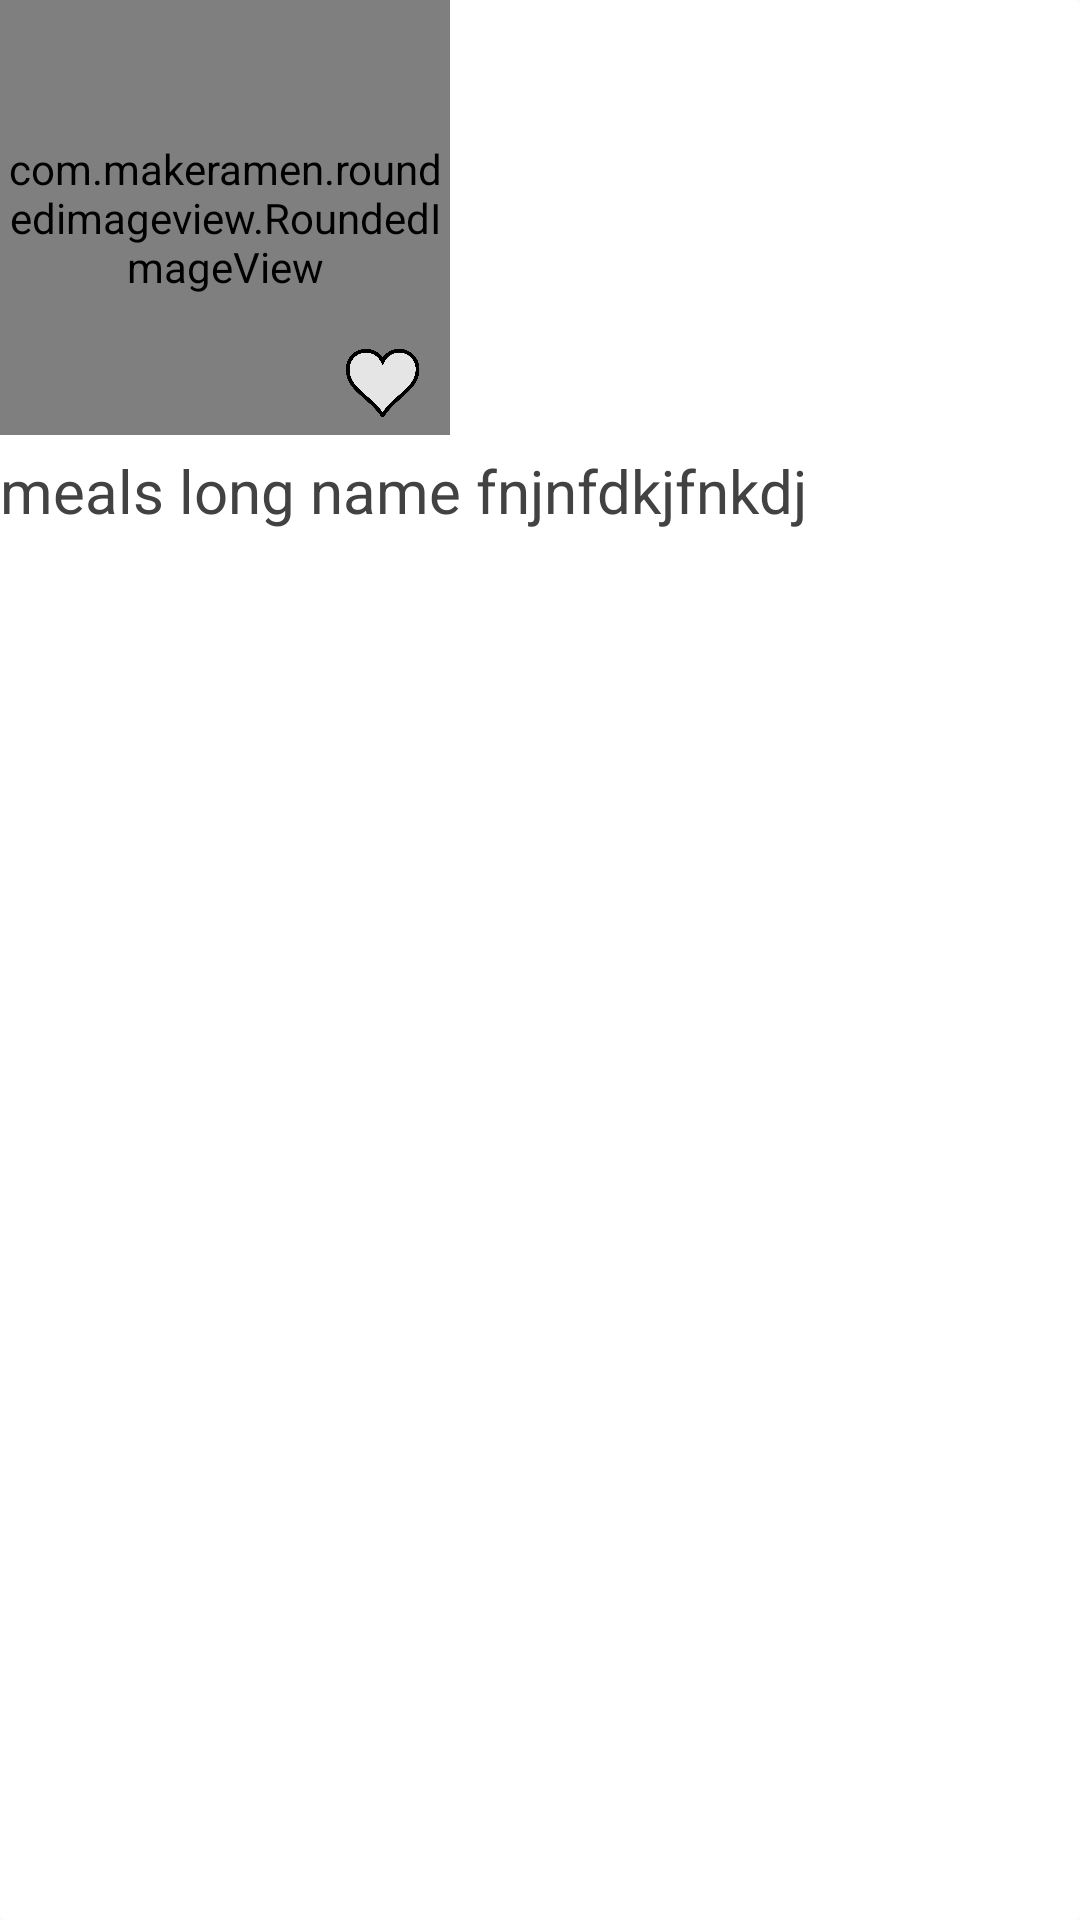

Icon click points for this 1080 x 1920 phone screenshot, format (x,y):
empty heart: (382,383)
